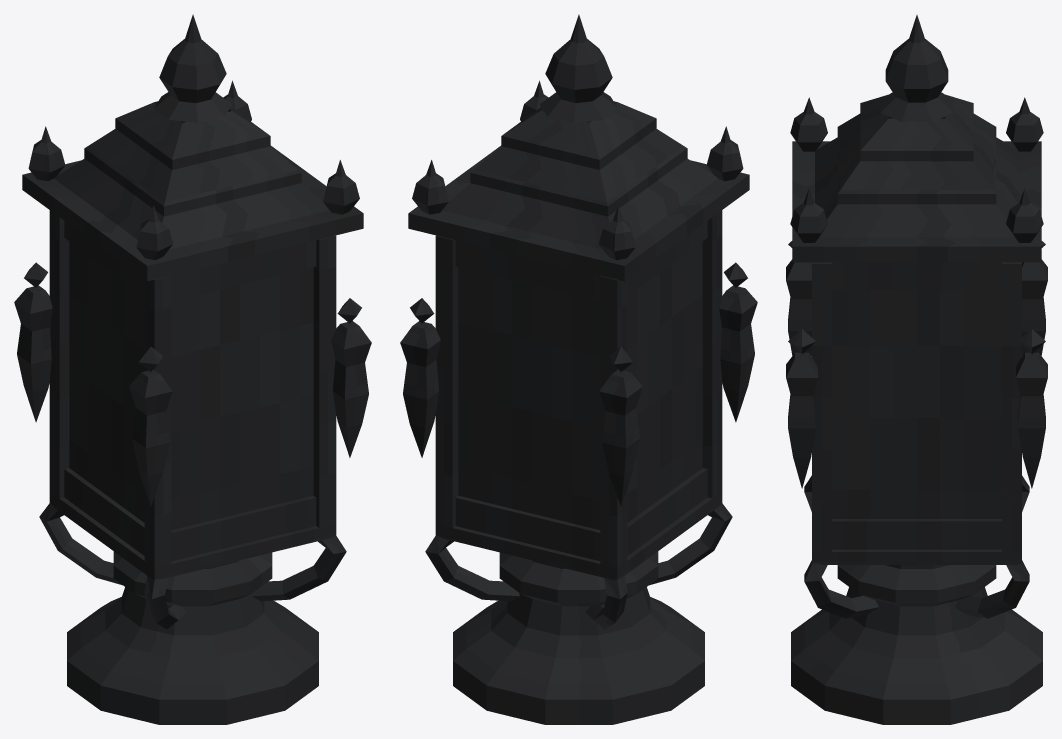
The model's file is decolight_lawilshirespecial.obj.
The picture shows the model from 3 angles, left to right: view 1: azimuth 30°, elevation 25°; view 2: azimuth 150°, elevation 25°; view 3: azimuth 270°, elevation 25°; orthographic projection.
Visible parts, largest first — view 1: decolight_lawilshirespecial; view 2: decolight_lawilshirespecial; view 3: decolight_lawilshirespecial.
Part boxes in pixels (x1=…): decolight_lawilshirespecial: x1=14, y1=14, x2=371, y2=724; decolight_lawilshirespecial: x1=400, y1=14, x2=757, y2=724; decolight_lawilshirespecial: x1=786, y1=15, x2=1047, y2=724.
Bounding box in the file's own units: 0.577 × 1.6 × 0.577.
